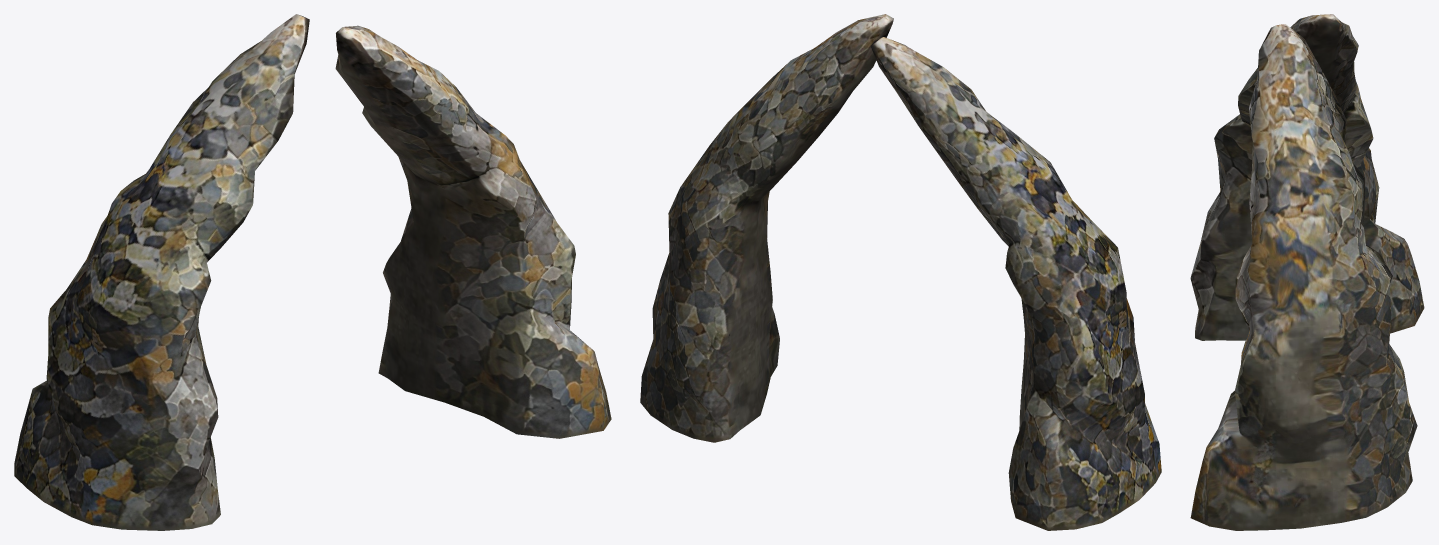
Rendered from act1-a21-5-leaning-stones-wide.glb.
3 views of the same model, side by side, from view 1: azimuth 30°, elevation 25°; view 2: azimuth 150°, elevation 25°; view 3: azimuth 270°, elevation 25° (orthographic). The views are drawn at different scales.
Parts seen in each view (by area): view 1: act1-a21-5-leaning-stones-wide; view 2: act1-a21-5-leaning-stones-wide; view 3: act1-a21-5-leaning-stones-wide.
Boxes of the visible parts, <box> form: act1-a21-5-leaning-stones-wide: <box>14,14,611,530</box>; act1-a21-5-leaning-stones-wide: <box>640,14,1161,530</box>; act1-a21-5-leaning-stones-wide: <box>1190,14,1424,530</box>.
Size of the model in its own units: 5.6 by 4.3 by 2.3.
Materials: 1 (1 with a texture image).
